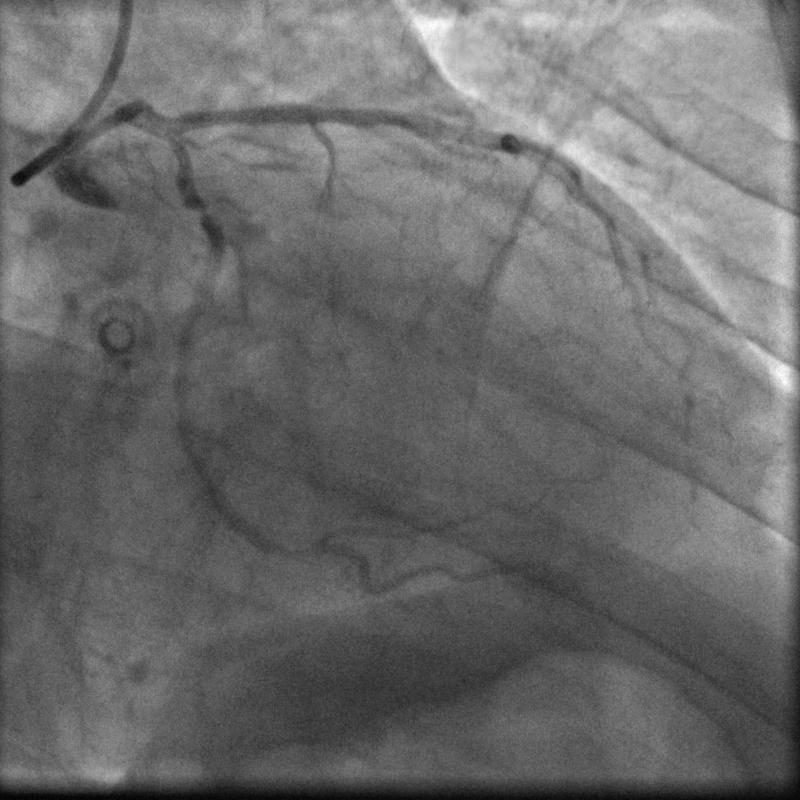Stenosis: (192, 201, 208, 220)
